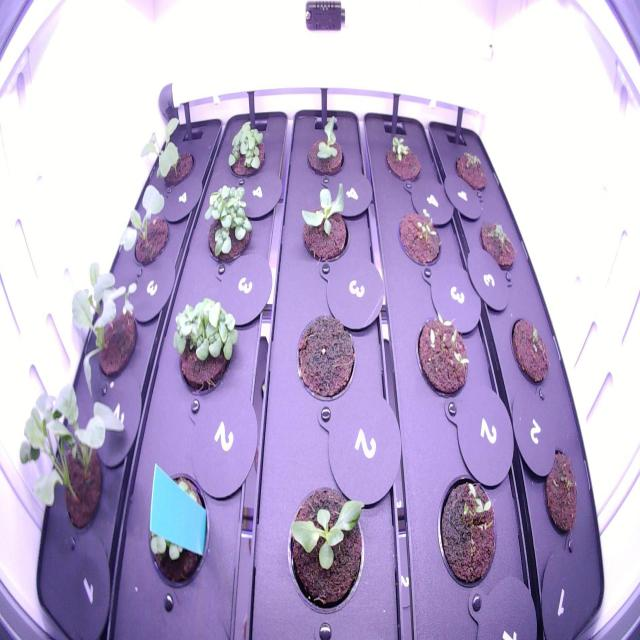germination: (434, 467, 503, 602), (111, 173, 177, 271), (412, 305, 473, 406), (538, 441, 586, 548), (140, 109, 198, 189), (392, 199, 446, 275), (506, 308, 554, 389), (473, 210, 520, 280), (380, 129, 426, 190), (449, 144, 492, 200)
pod: (288, 307, 359, 408)
young: (283, 478, 373, 620), (293, 166, 359, 271), (294, 112, 348, 184)
